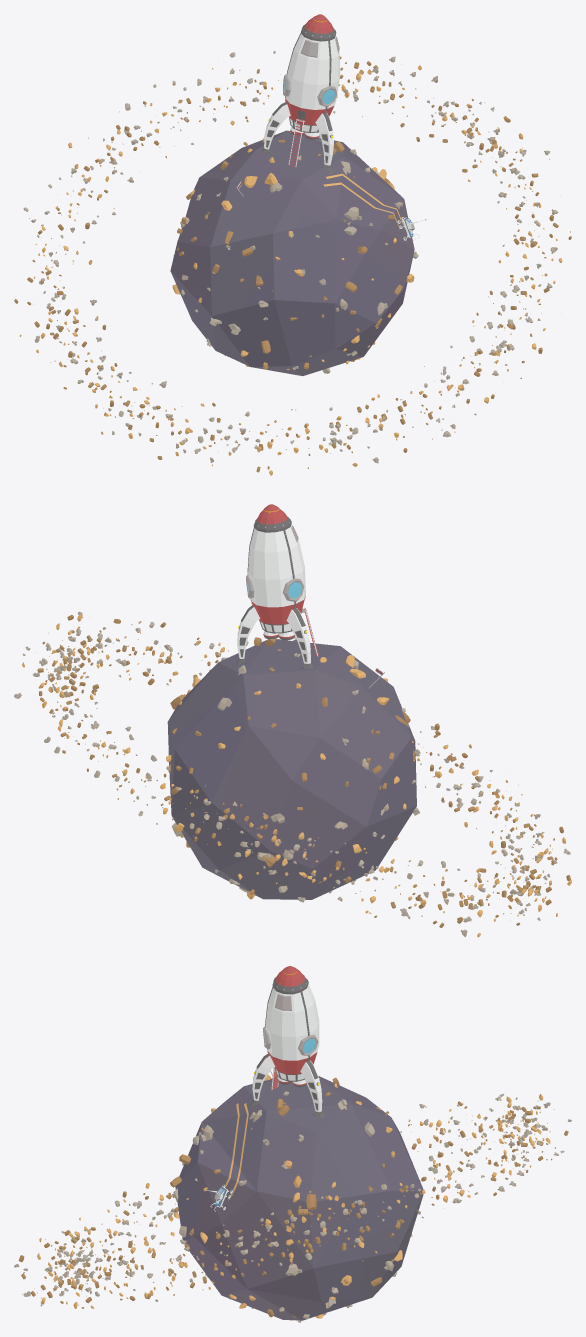
The model's file is space.glb.
The picture shows the model from 3 angles, top to bottom: view 1: azimuth 30°, elevation 25°; view 2: azimuth 150°, elevation 25°; view 3: azimuth 270°, elevation 25°; orthographic projection. The views are drawn at different scales.
Visible parts, largest first — view 1: planet.001; view 2: planet.001; view 3: planet.001.
Boxes of the visible parts, <box> form: planet.001: <box>14,14,571,475</box>; planet.001: <box>14,504,571,937</box>; planet.001: <box>14,966,571,1322</box>.
Size of the model in its own units: 30.54 by 22.9 by 31.63.
Materials: 1 (1 with a texture image).
